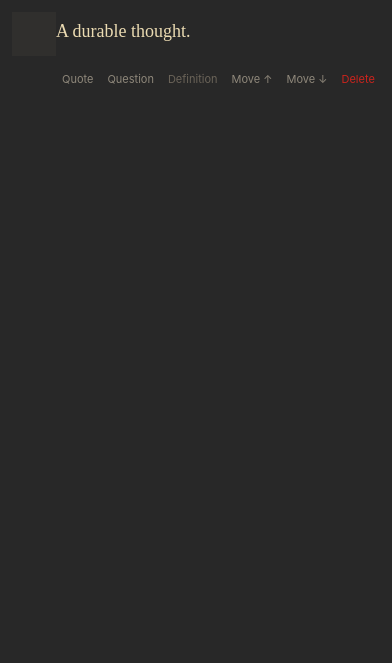
Test: JournalBlockView progressive disclosure › keeps the persistent mark menu keyboard-reachable with the same future and delete actions
The image size is (392, 663).
Click the button named "Block type: Paragraph. Change" at (34, 34), box [12,12,56,56]
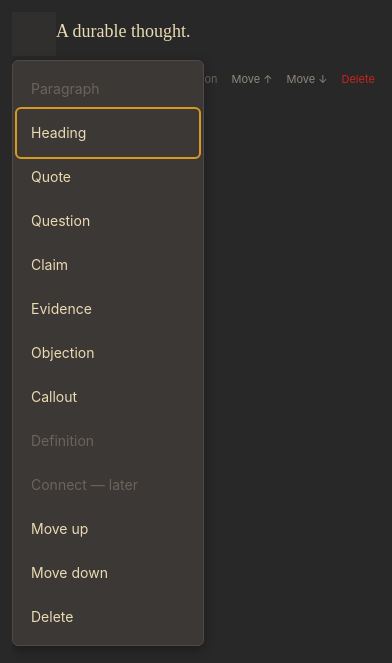
Now the menu item "Connect — later" is disabled, box [19,463,197,507]
Now the menu item "Move up" is enabled, box [19,507,197,551]
Now the menu item "Move down" is enabled, box [19,551,197,595]
